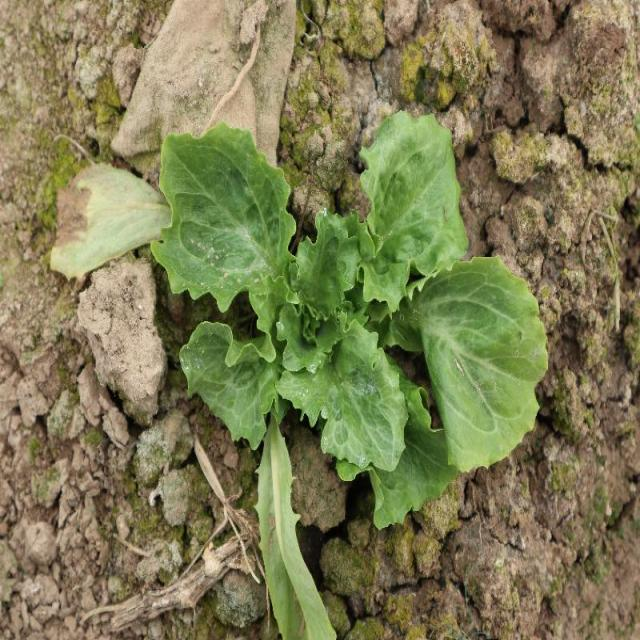crop: (148, 107, 551, 530)
